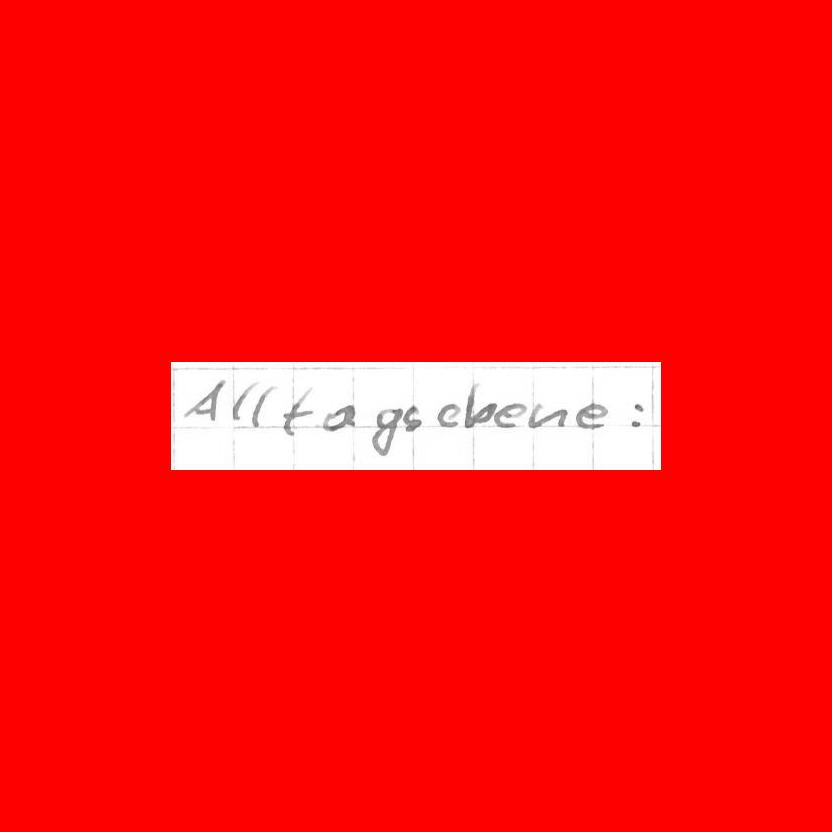Char: (181, 378, 228, 426), (279, 387, 316, 438), (369, 405, 401, 460), (463, 380, 496, 429), (249, 384, 275, 429), (574, 400, 612, 430), (529, 402, 566, 432), (321, 404, 356, 434), (230, 379, 253, 424), (496, 402, 524, 429), (401, 403, 423, 432), (437, 402, 461, 428), (628, 398, 645, 430)
